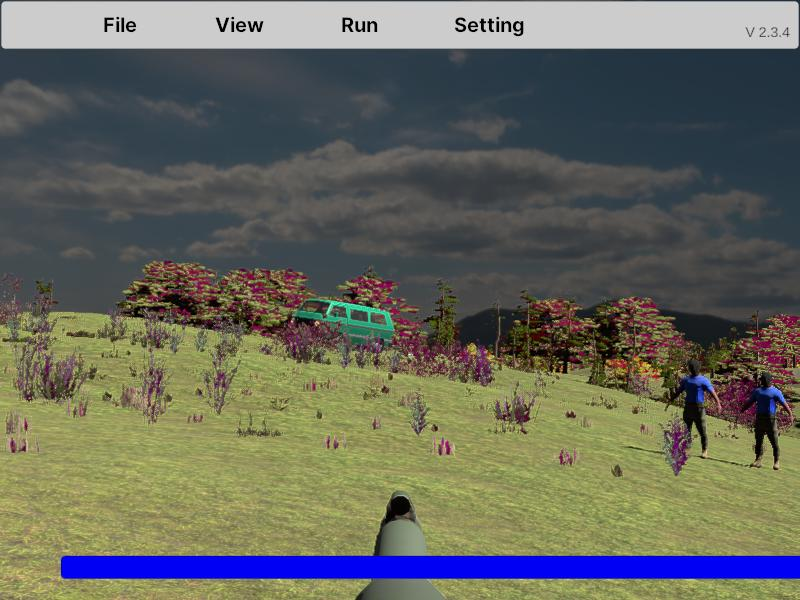Human: (665, 360, 721, 459), (739, 372, 794, 471)
car: (292, 299, 394, 355)
